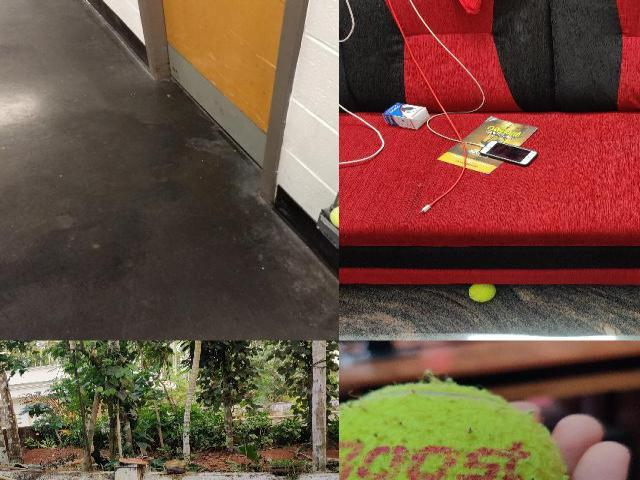tennis-ball: (339, 382, 566, 479), (468, 284, 496, 302), (328, 205, 338, 231)
